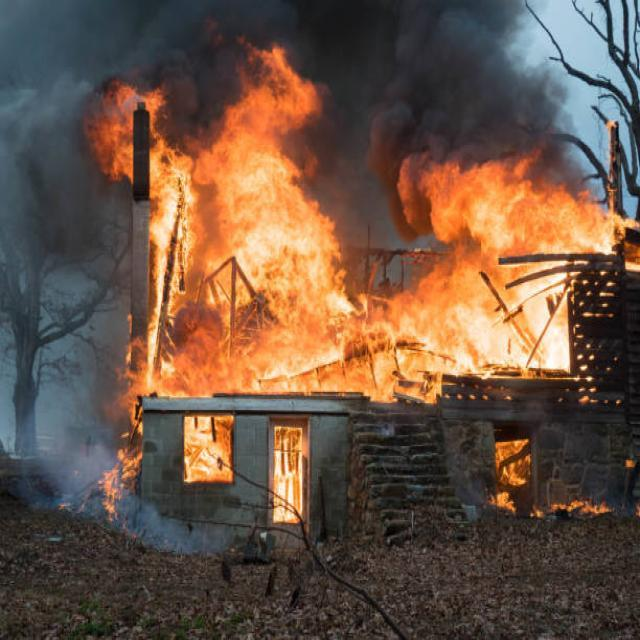Fire: (100, 70, 354, 412), (380, 141, 592, 392), (184, 403, 238, 487), (270, 430, 300, 522), (500, 435, 534, 503)
Smoke: (306, 8, 580, 210), (2, 4, 134, 287), (111, 1, 291, 127)
